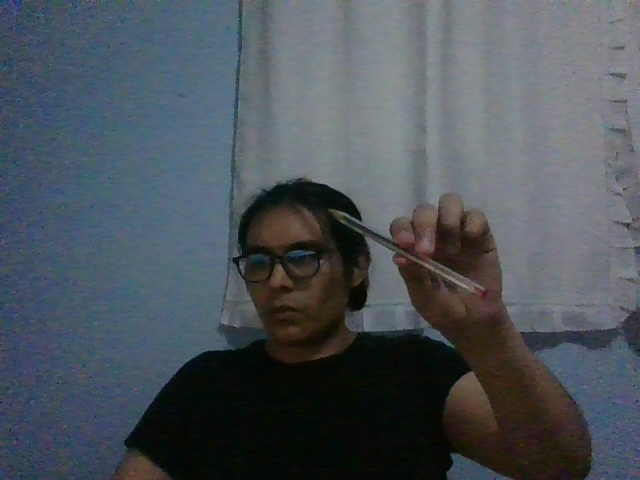pluma: (325, 207, 489, 301)
